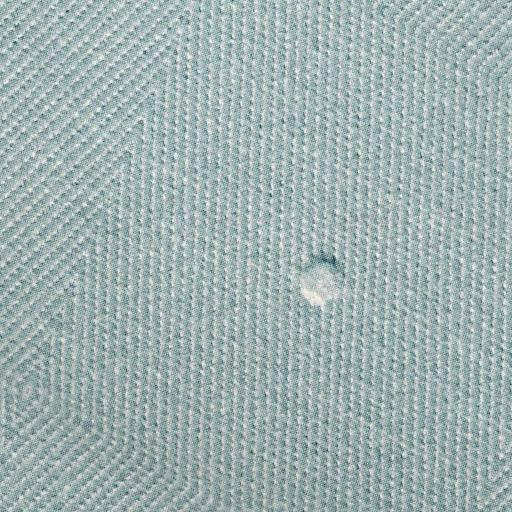knot: (295, 248, 353, 315)
